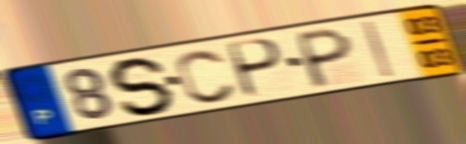8: (63, 67, 116, 122)
C: (174, 47, 239, 105)
I: (359, 18, 396, 79)
P: (227, 37, 286, 101), (296, 25, 354, 90)
S: (107, 55, 178, 117)
